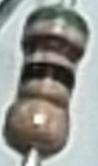Black: (19, 61, 76, 94)
Brown: (21, 34, 86, 62)
Green: (23, 8, 90, 36)
Side-Silver: (6, 103, 69, 138)
